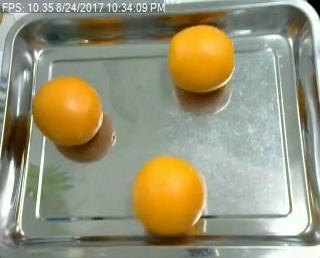Orange: (132, 155, 208, 238), (167, 22, 236, 93), (33, 77, 103, 146)
